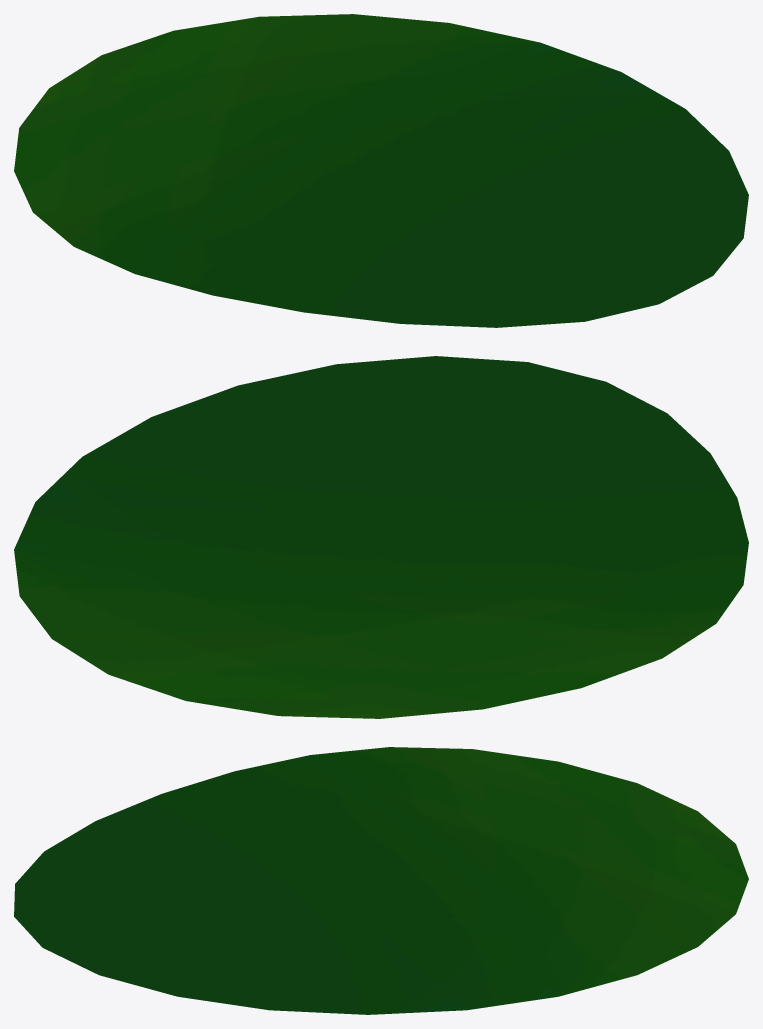
File: puddle5.fbx
3 renders of one model, top to bottom at view 1: azimuth 30°, elevation 25°; view 2: azimuth 150°, elevation 25°; view 3: azimuth 270°, elevation 25°, orthographic. The views are drawn at different scales.
Parts seen in each view (by area): view 1: Puddle5; view 2: Puddle5; view 3: Puddle5.
Part boxes in pixels (left/top/right/bottom): Puddle5: left=14, top=14, right=748, bottom=327; Puddle5: left=14, top=356, right=748, bottom=718; Puddle5: left=14, top=747, right=748, bottom=1014.
Size of the model in its own units: 2.88 by 0 by 3.34.
Materials: 1 (1 with a texture image).
